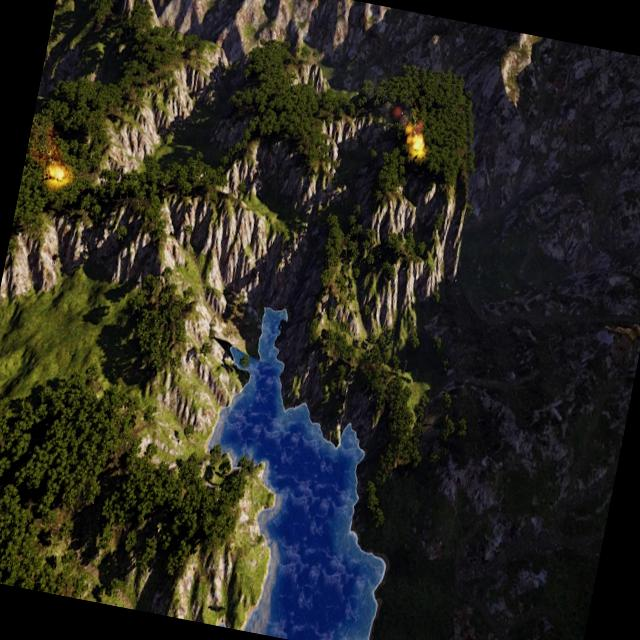fire: (403, 122, 429, 160), (48, 162, 68, 182)
